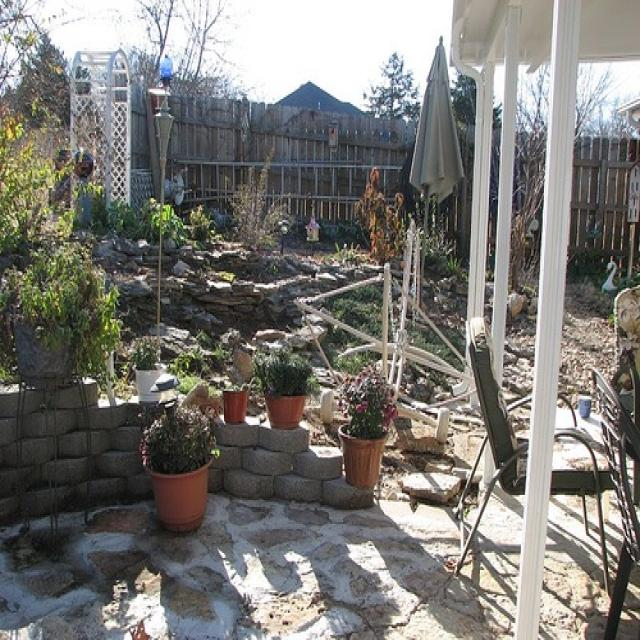chair: (453, 312, 615, 602), (589, 290, 639, 638)
pottedplant: (6, 242, 120, 391), (140, 394, 218, 536), (335, 355, 397, 492), (254, 339, 314, 432), (218, 336, 248, 427)
